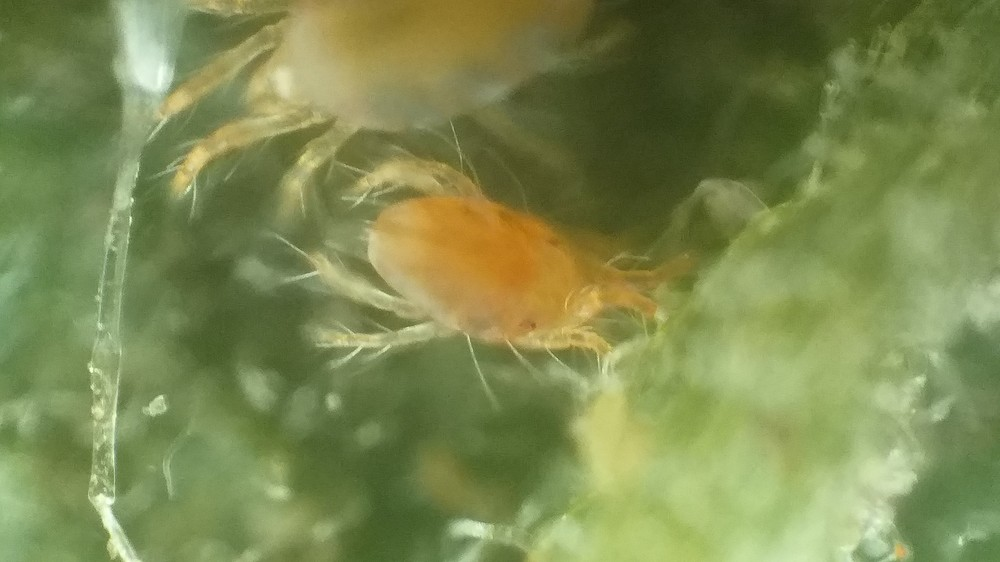Aracnido Rojo: (144, 3, 693, 212), (297, 156, 724, 401)
